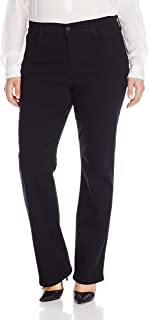jeans: (17, 14, 132, 287)
